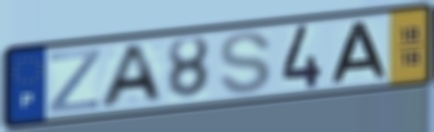4: (280, 23, 324, 92)
8: (165, 35, 213, 103)
A: (95, 42, 167, 111), (328, 20, 391, 85)
S: (216, 30, 274, 97)
Z: (46, 46, 104, 116)
